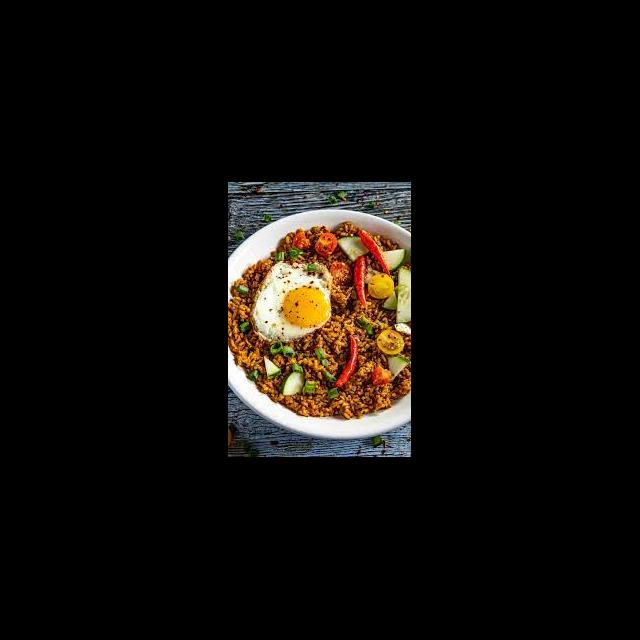food_waste: (253, 280, 398, 387)
